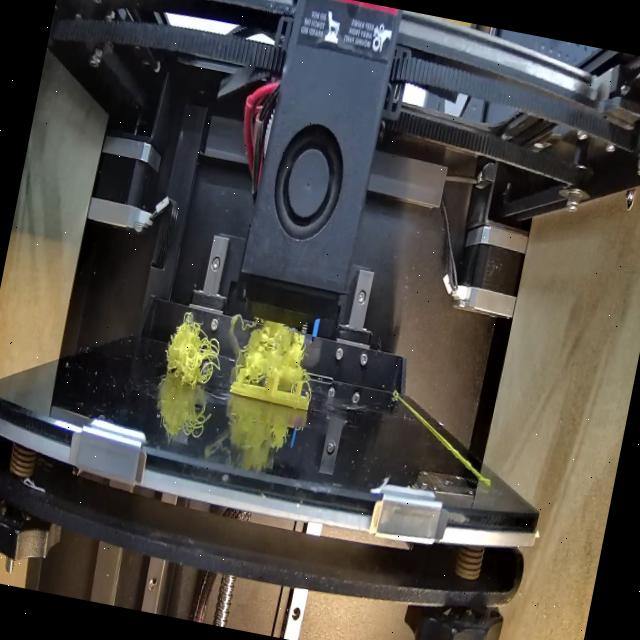spaghetti: (230, 309, 314, 388), (155, 304, 228, 392)
